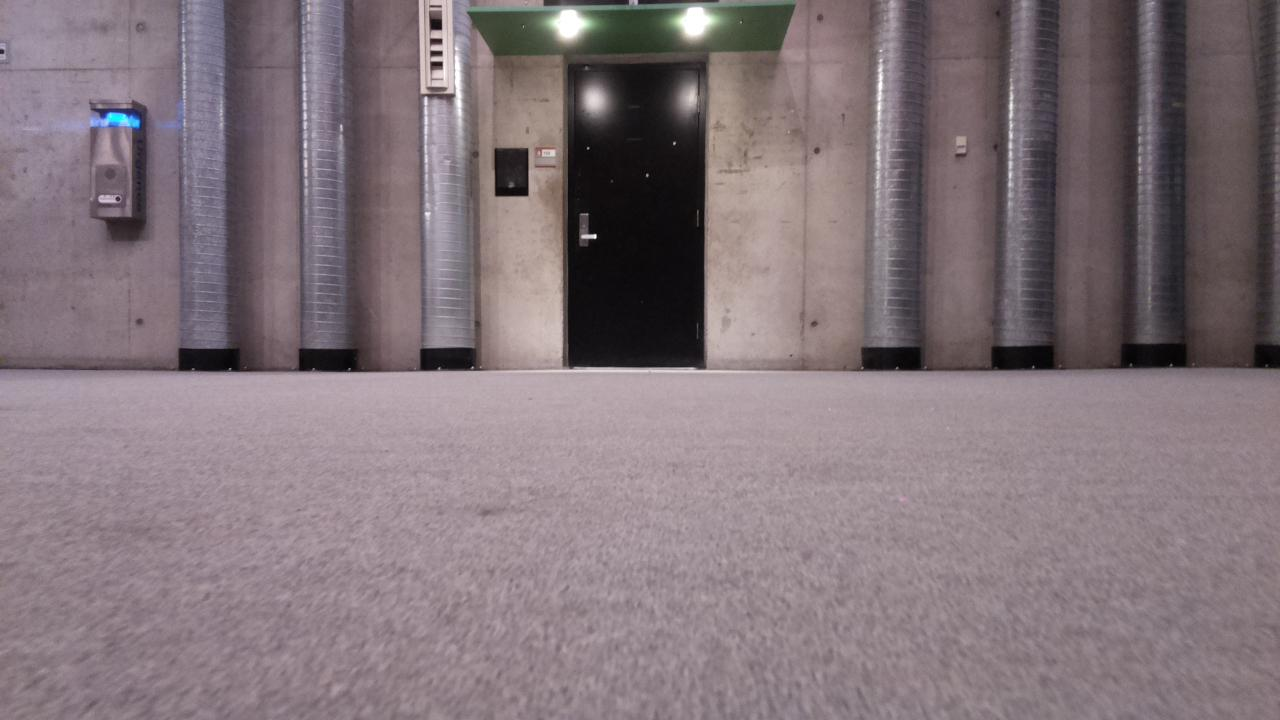door: (571, 69, 697, 366)
sign: (535, 147, 555, 166)
